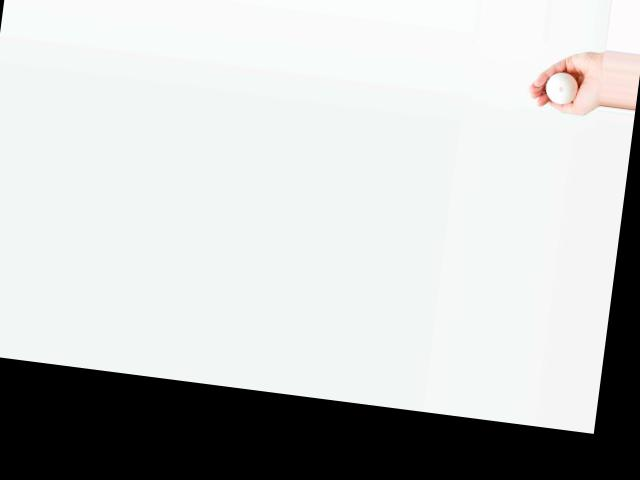egg: (543, 70, 579, 104)
